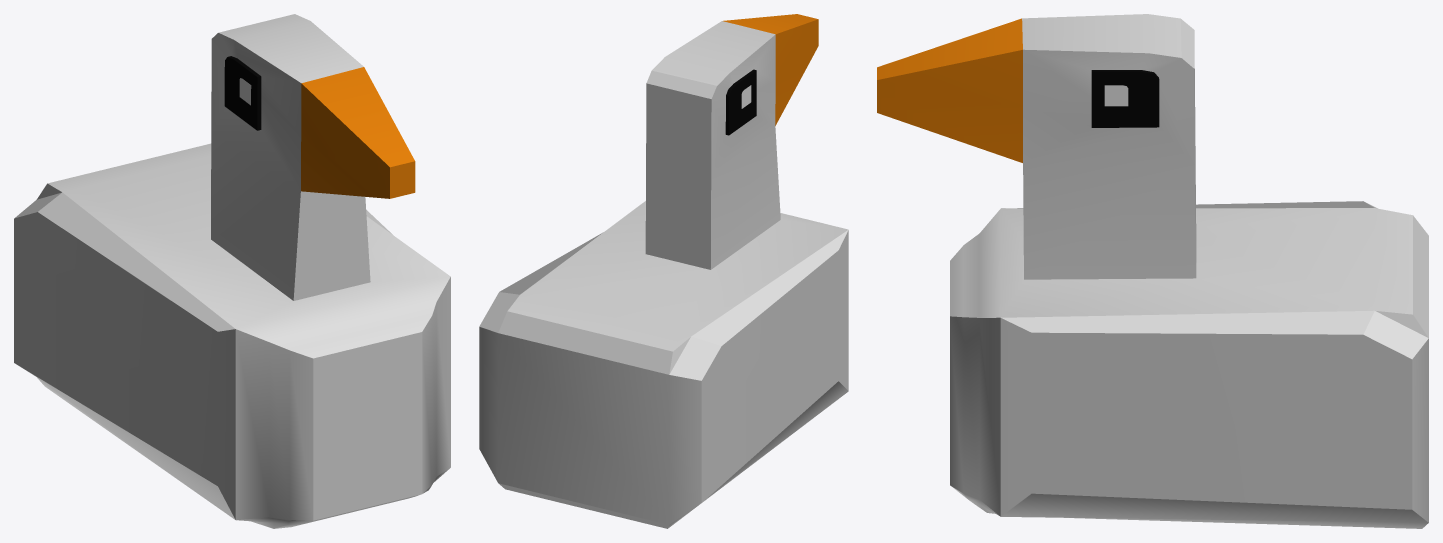
Rendered from Duck hat.fbx.
The picture shows the model from 3 angles, left to right: view 1: azimuth 30°, elevation 25°; view 2: azimuth 150°, elevation 25°; view 3: azimuth 270°, elevation 25°; orthographic projection. The views are drawn at different scales.
Visible parts, largest first — view 1: Duck; view 2: Duck; view 3: Duck.
Boxes of the visible parts, box(x1,y1,x2,y2) form: Duck: box(14, 14, 450, 528); Duck: box(479, 14, 848, 528); Duck: box(877, 14, 1428, 528).
Size of the model in its own units: 380 by 604 by 663.
